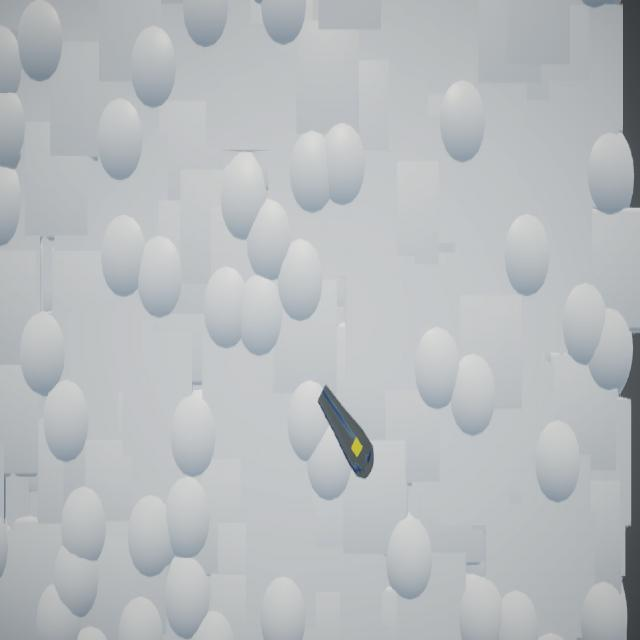handle_knife: (318, 385, 375, 480)
